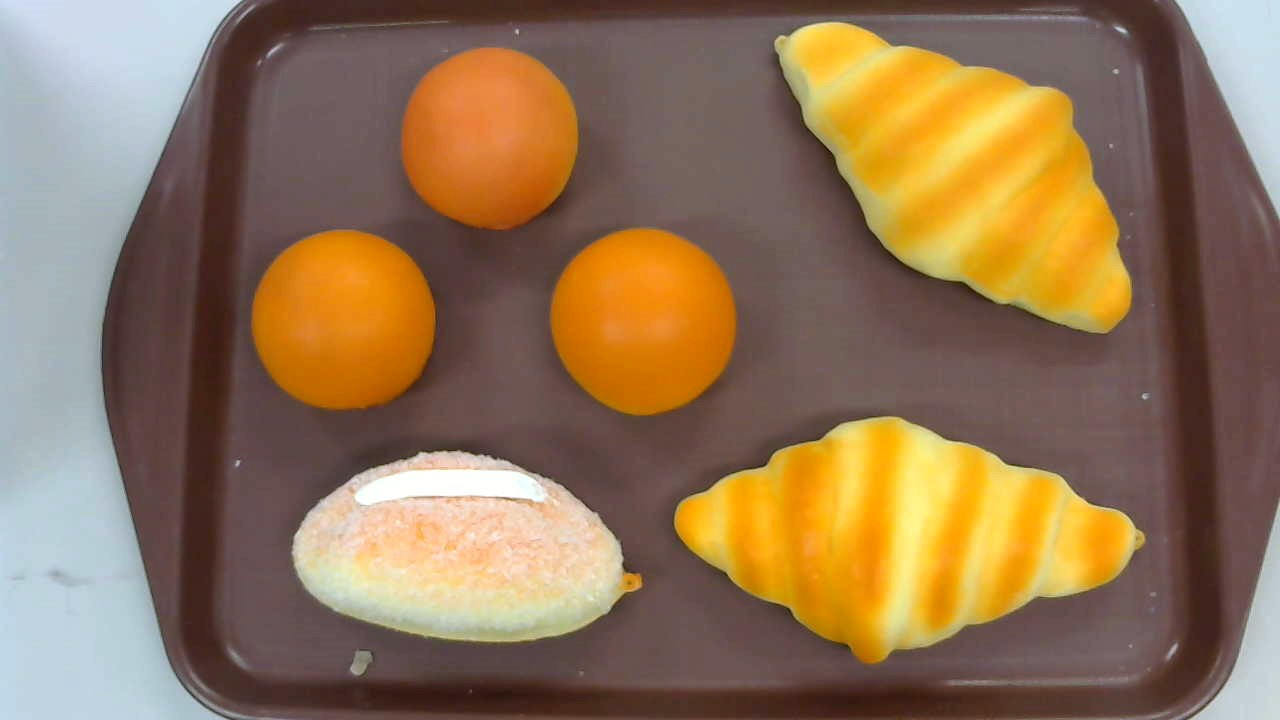bun: (552, 227, 736, 414), (251, 230, 436, 410), (400, 47, 578, 229)
coconut: (291, 450, 642, 645)
croissant: (674, 415, 1146, 664), (774, 22, 1132, 334)
